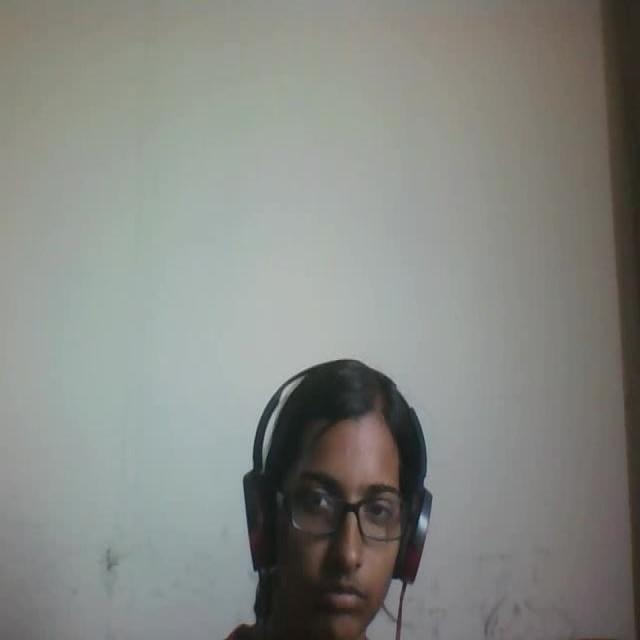Engaged: (206, 328, 465, 640)
